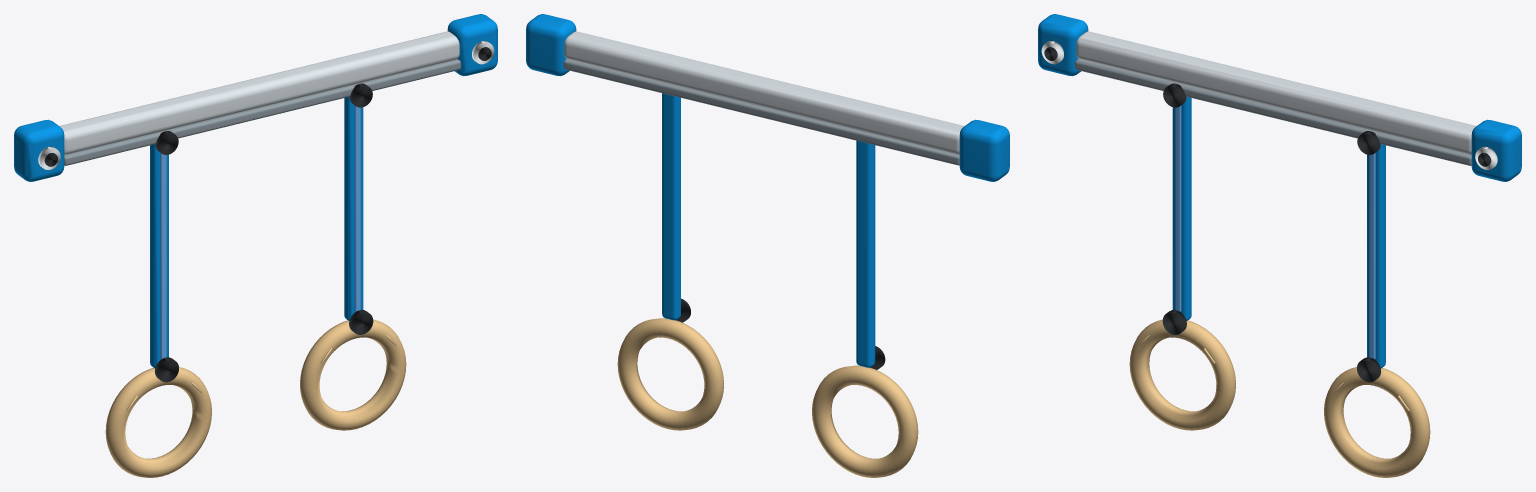
Rendered from ringe_3D.glb.
3 renders of one model, left to right at view 1: azimuth 30°, elevation 25°; view 2: azimuth 150°, elevation 25°; view 3: azimuth 330°, elevation 25°, orthographic.
Visible parts, largest first — view 1: ringe_3D__web_light_grey_wall_mounted_gymnastics_rings_rail, ringe_3D__web_warm_laminated_wooden_gymnastics_rings, ringe_3D__web_bright_blue_ring_wall_bracket_and_straps, ringe_3D__web_dark_grey_underside_on_gymnastics_rings_rail, ringe_3D__web_lighter_blue_glossy_strap_highlights, ringe_3D__web_dark_outlines_rubber_bushings_on_rings, ringe_3D__web_small_chrome_wall_rail_bolt_inserts; view 2: ringe_3D__web_bright_blue_ring_wall_bracket_and_straps, ringe_3D__web_light_grey_wall_mounted_gymnastics_rings_rail, ringe_3D__web_warm_laminated_wooden_gymnastics_rings, ringe_3D__web_dark_grey_underside_on_gymnastics_rings_rail; view 3: ringe_3D__web_light_grey_wall_mounted_gymnastics_rings_rail, ringe_3D__web_warm_laminated_wooden_gymnastics_rings, ringe_3D__web_bright_blue_ring_wall_bracket_and_straps, ringe_3D__web_dark_grey_underside_on_gymnastics_rings_rail, ringe_3D__web_lighter_blue_glossy_strap_highlights, ringe_3D__web_dark_outlines_rubber_bushings_on_rings, ringe_3D__web_small_chrome_wall_rail_bolt_inserts.
Part boxes in pixels (box(x1,y1,x2,y2)): ringe_3D__web_light_grey_wall_mounted_gymnastics_rings_rail: box(59, 31, 459, 154); ringe_3D__web_warm_laminated_wooden_gymnastics_rings: box(105, 319, 406, 477); ringe_3D__web_bright_blue_ring_wall_bracket_and_straps: box(14, 14, 497, 368); ringe_3D__web_dark_grey_underside_on_gymnastics_rings_rail: box(64, 59, 460, 165); ringe_3D__web_lighter_blue_glossy_strap_highlights: box(160, 105, 360, 359); ringe_3D__web_dark_outlines_rubber_bushings_on_rings: box(44, 47, 491, 382); ringe_3D__web_small_chrome_wall_rail_bolt_inserts: box(38, 41, 494, 169); ringe_3D__web_bright_blue_ring_wall_bracket_and_straps: box(526, 14, 1009, 367); ringe_3D__web_light_grey_wall_mounted_gymnastics_rings_rail: box(564, 31, 964, 154); ringe_3D__web_warm_laminated_wooden_gymnastics_rings: box(617, 318, 918, 477); ringe_3D__web_dark_grey_underside_on_gymnastics_rings_rail: box(563, 59, 959, 165); ringe_3D__web_light_grey_wall_mounted_gymnastics_rings_rail: box(1076, 31, 1476, 154); ringe_3D__web_warm_laminated_wooden_gymnastics_rings: box(1129, 319, 1430, 477); ringe_3D__web_bright_blue_ring_wall_bracket_and_straps: box(1038, 14, 1521, 368); ringe_3D__web_dark_grey_underside_on_gymnastics_rings_rail: box(1075, 59, 1471, 165); ringe_3D__web_lighter_blue_glossy_strap_highlights: box(1175, 105, 1375, 359); ringe_3D__web_dark_outlines_rubber_bushings_on_rings: box(1044, 47, 1491, 382); ringe_3D__web_small_chrome_wall_rail_bolt_inserts: box(1041, 41, 1497, 169).
Bounding box in the file's own units: 2.1 × 1.61 × 0.163.
